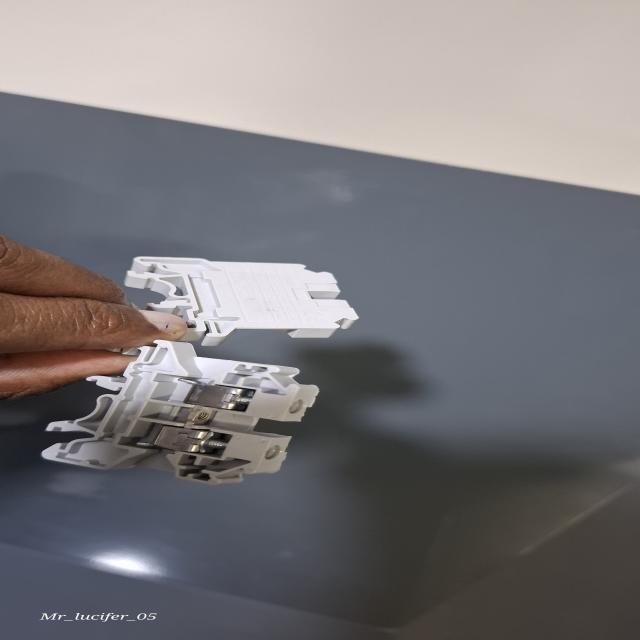Inverted: (122, 255, 360, 345)
Pass: (37, 336, 326, 484)
